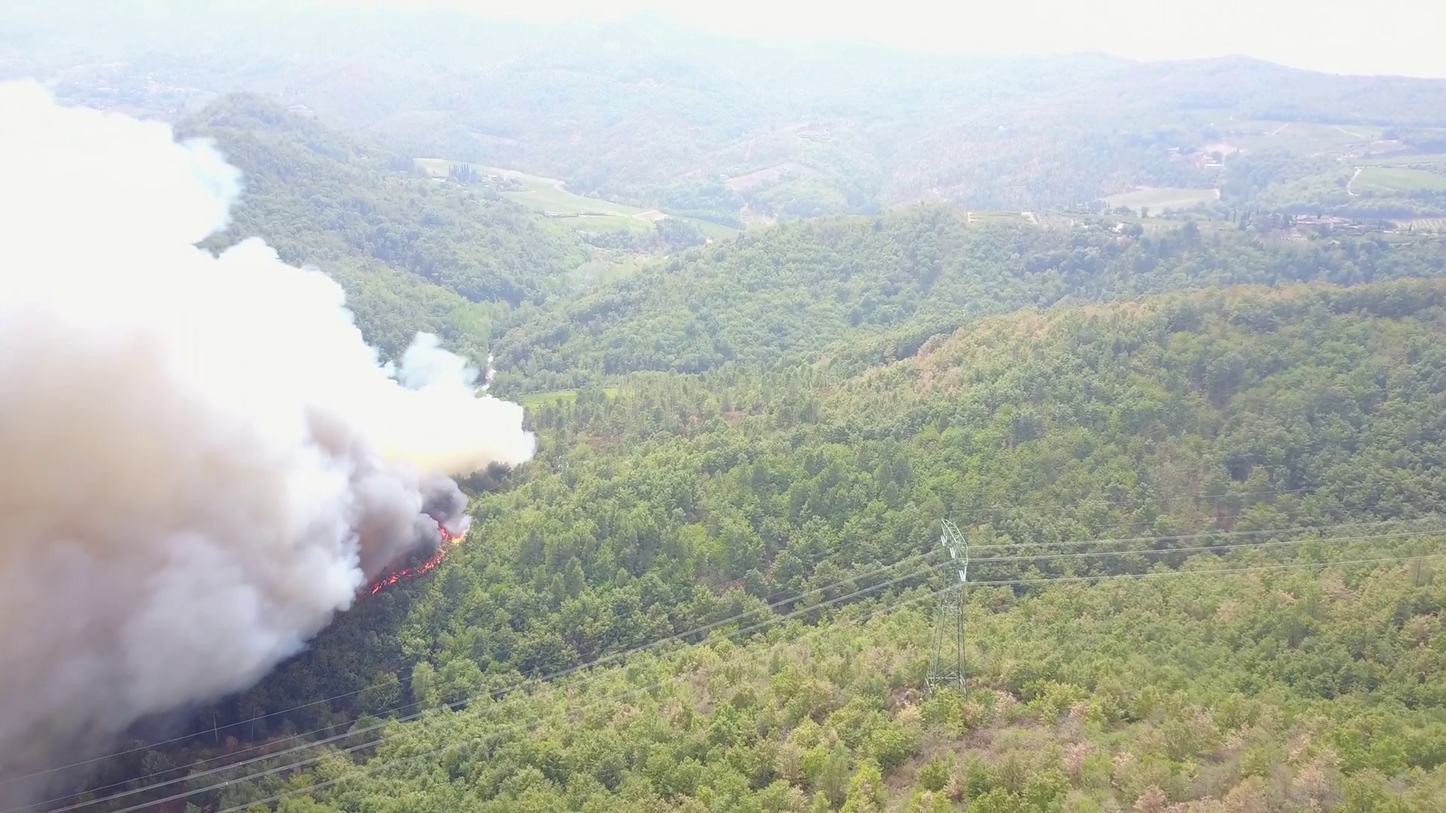forest_fire: (370, 523, 463, 594)
